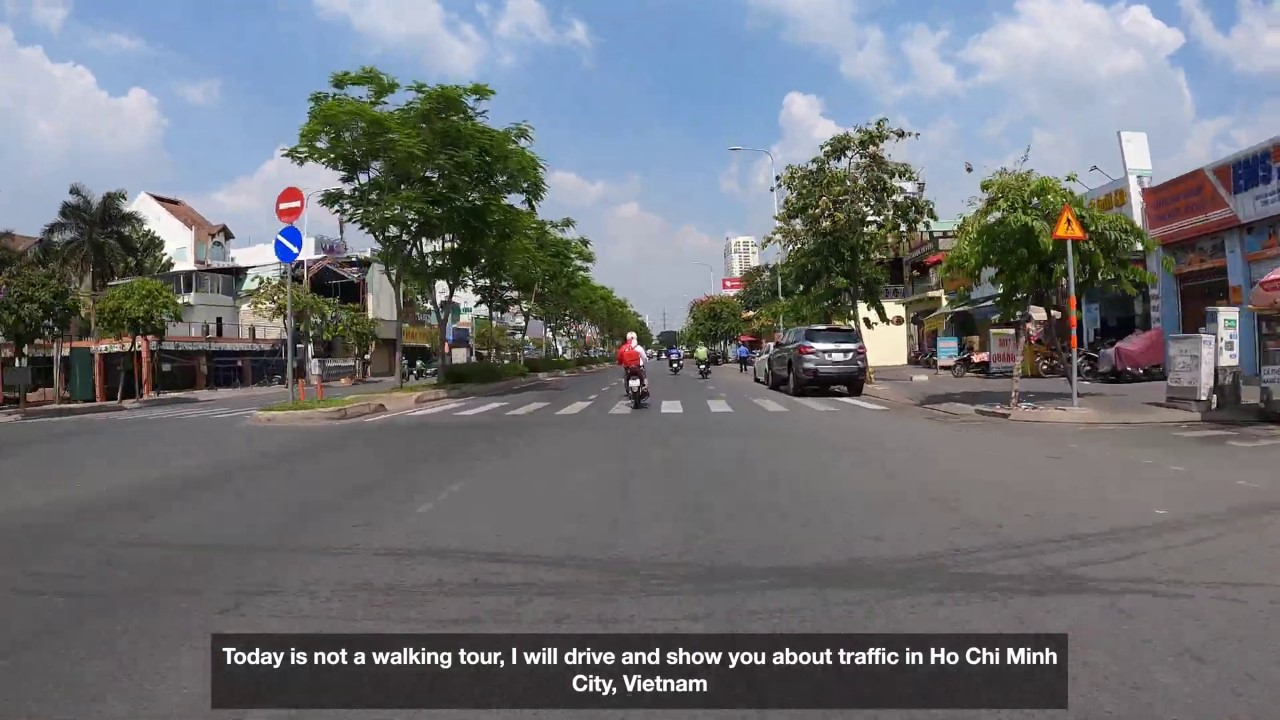cam_nguoc_chieu: (274, 185, 305, 223)
can_than_nguoi_qua_duong: (1050, 202, 1088, 241)
huong_phai_di_vong: (273, 226, 303, 264)
